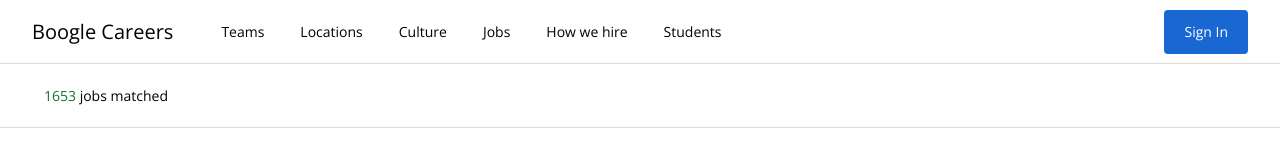
MainNav › When user logs in › displays user profile picture
Click the button with test id "login-button": (1206, 32) [1164, 10, 1248, 54]
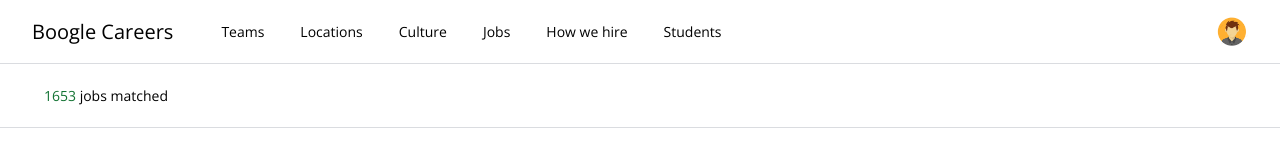
Check: the picture with test id "profile-image" is shown, box [1216, 16, 1248, 48]
